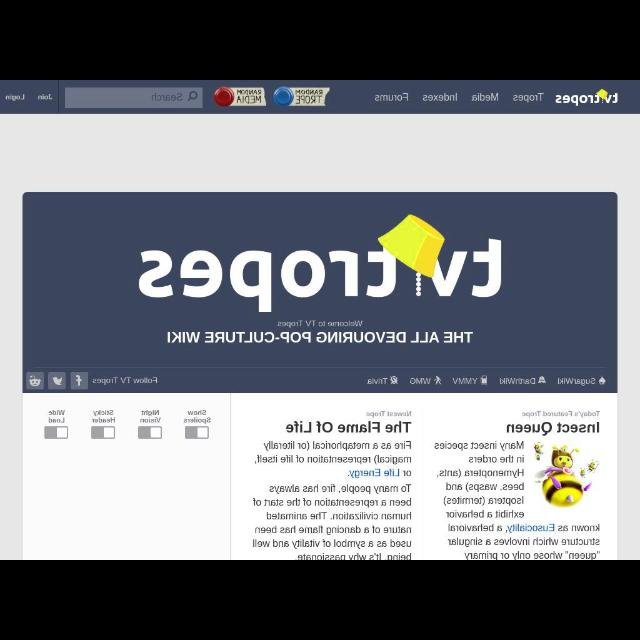icon: (188, 90, 198, 102), (389, 375, 399, 385), (479, 375, 488, 385), (598, 376, 606, 386), (433, 376, 442, 384), (538, 376, 546, 384)
image: (136, 213, 502, 313), (532, 441, 600, 509), (212, 86, 268, 108), (555, 88, 619, 106), (273, 88, 331, 106), (70, 371, 88, 389), (47, 372, 65, 390), (26, 372, 44, 390)
input: (64, 88, 202, 108)
multitab: (366, 376, 606, 386), (372, 92, 544, 104)
switch: (138, 426, 162, 440), (44, 426, 68, 440), (184, 426, 210, 438), (90, 426, 116, 438)
text: (252, 440, 412, 560), (434, 440, 524, 520), (446, 524, 602, 558), (166, 330, 474, 344), (285, 422, 413, 434), (506, 421, 600, 437), (276, 319, 362, 329), (522, 409, 600, 418), (92, 376, 158, 386), (366, 410, 412, 420), (422, 91, 458, 103), (556, 376, 596, 386), (182, 410, 210, 424), (512, 92, 544, 104), (498, 376, 536, 386), (375, 91, 409, 102), (472, 91, 500, 103), (92, 410, 115, 424), (150, 92, 183, 101), (140, 409, 160, 423), (452, 376, 478, 386), (408, 376, 432, 386), (367, 376, 389, 386), (48, 410, 66, 422), (4, 93, 26, 101), (37, 93, 53, 101)
